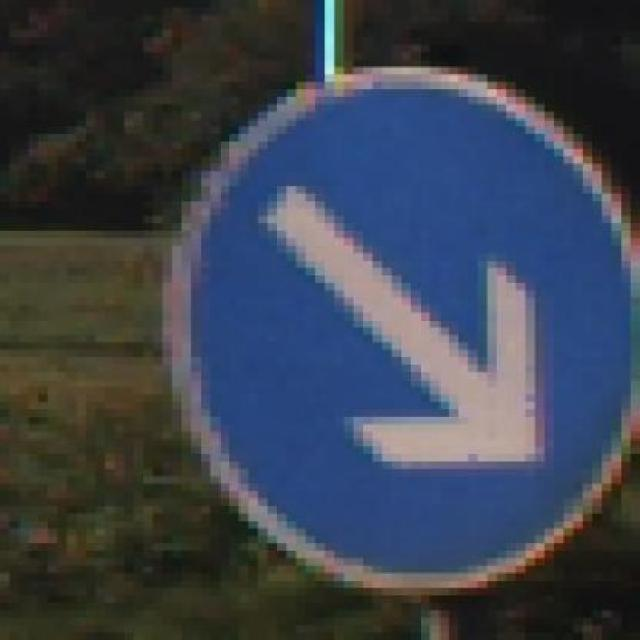Keep-Right: (96, 59, 630, 610)
